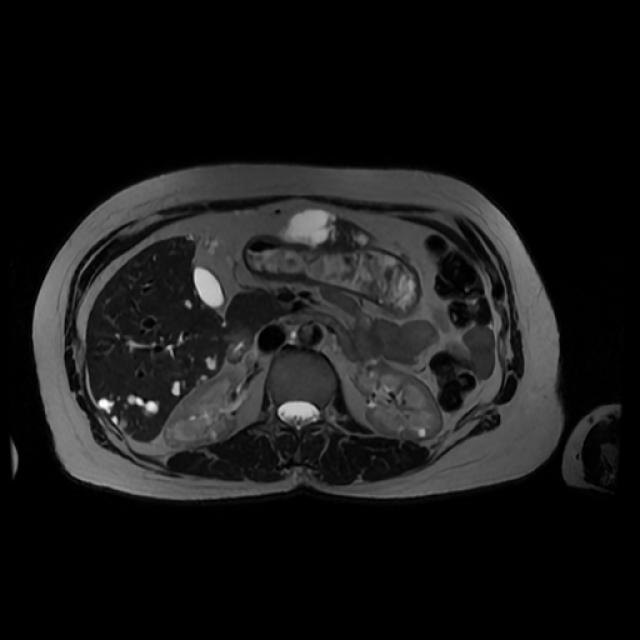sag: (163, 372, 244, 450)
sol: (355, 361, 444, 439)
